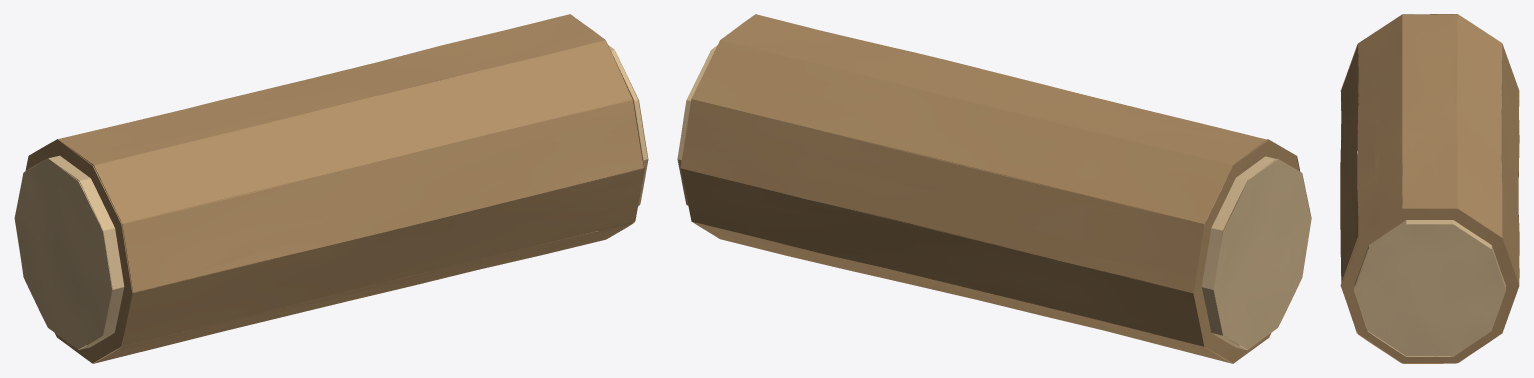
Rendered from log.glb.
3 views of the same model, side by side, from view 1: azimuth 30°, elevation 25°; view 2: azimuth 150°, elevation 25°; view 3: azimuth 270°, elevation 25° (orthographic). The views are drawn at different scales.
Parts seen in each view (by area): view 1: Log; view 2: Log; view 3: Log.
Part boxes in pixels (x1=…): Log: x1=14, y1=14, x2=648, y2=363; Log: x1=677, y1=14, x2=1311, y2=363; Log: x1=1340, y1=14, x2=1519, y2=363.
Size of the model in its own units: 1.84 by 0.6532 by 0.6817.
